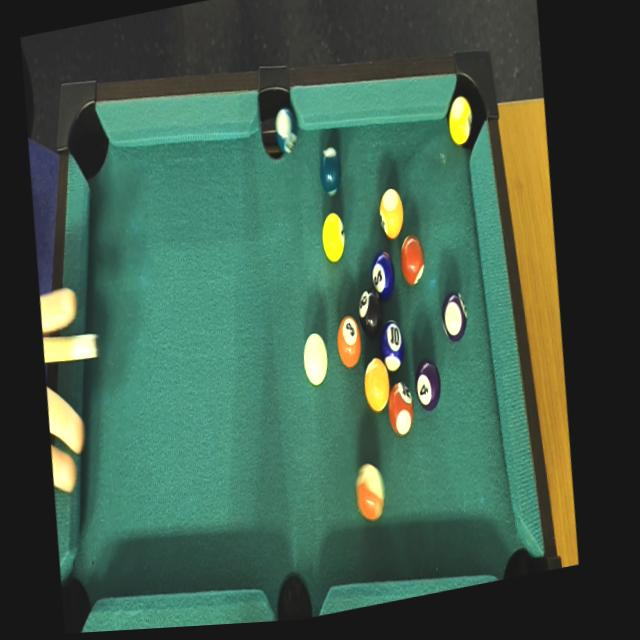cue ball: (295, 328, 335, 391)
other: (372, 313, 417, 393), (359, 235, 400, 312), (352, 350, 397, 420), (266, 98, 309, 167), (346, 458, 390, 524), (381, 376, 423, 445), (409, 351, 448, 423), (352, 287, 393, 353), (372, 181, 410, 250), (395, 230, 433, 296), (438, 94, 478, 155), (314, 210, 354, 271), (311, 139, 347, 200), (329, 313, 366, 372), (436, 285, 472, 342)
